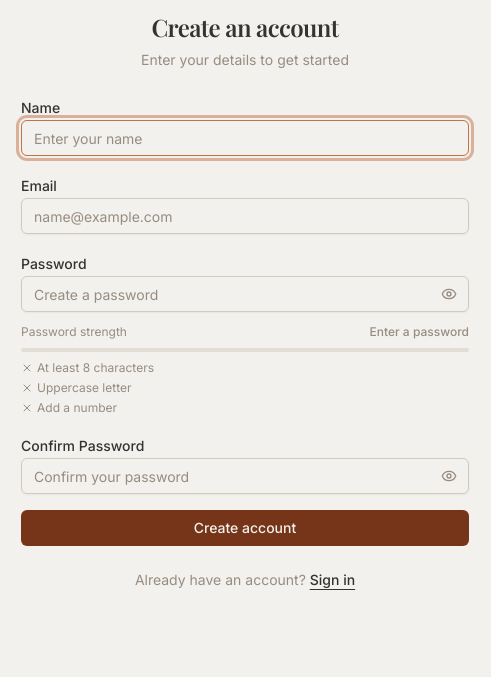
Test: RegisterForm › submission › displays error when email already exists
Type "John Doe" into the field labelled "Name".
click(245, 138); type("John Doe")  # box [21,120,469,156]
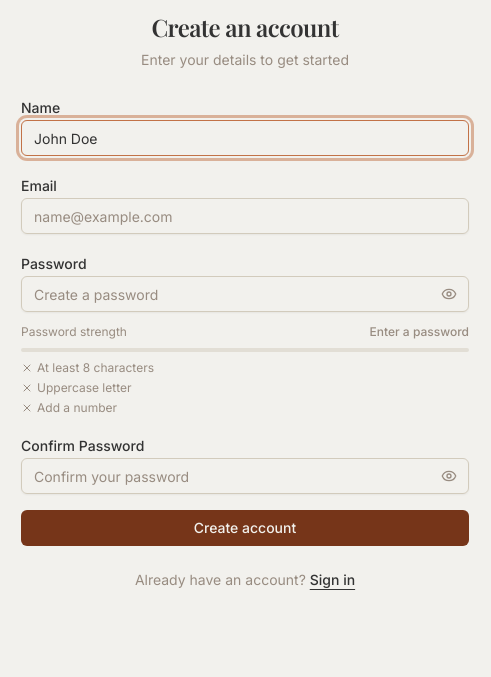
Type "existing@example.com" into the field labelled "Email".
click(245, 216); type("existing@example.com")  # box [21,198,469,234]
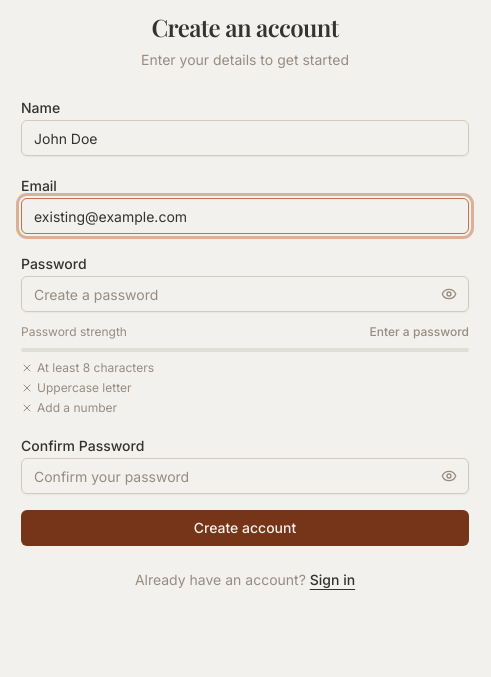
Type "StrongPass123!" into the password field labelled "Password".
click(245, 294); type("StrongPass123!")  # box [21,276,469,312]
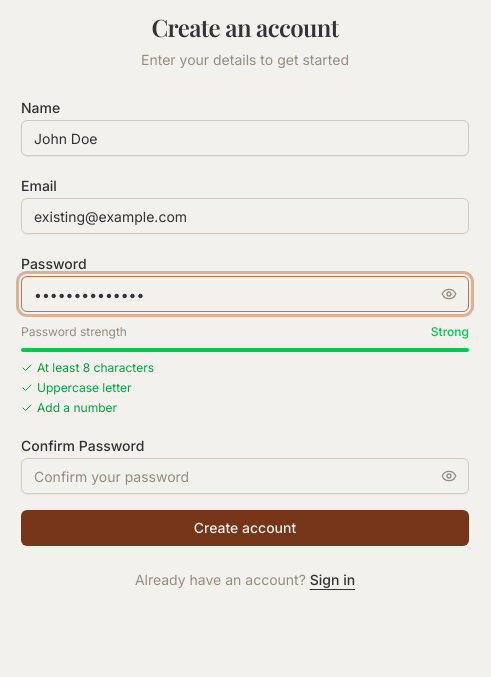
Type "StrongPass123!" into the password field labelled "Confirm Password".
click(245, 476); type("StrongPass123!")  # box [21,458,469,494]
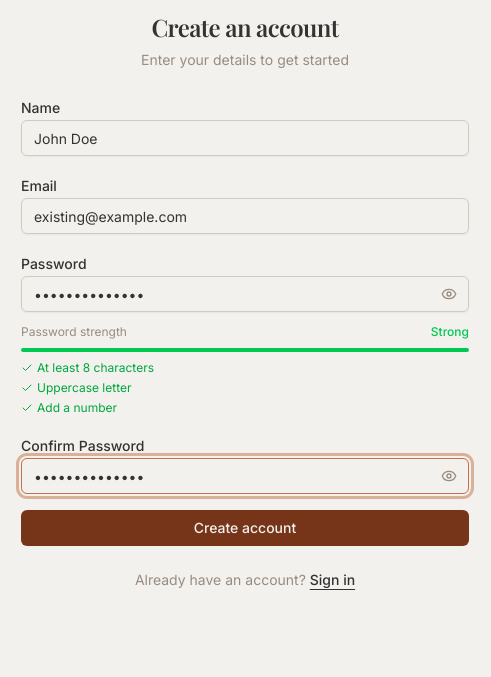
Click the button "Create account".
click(245, 528)  # box [21,510,469,546]
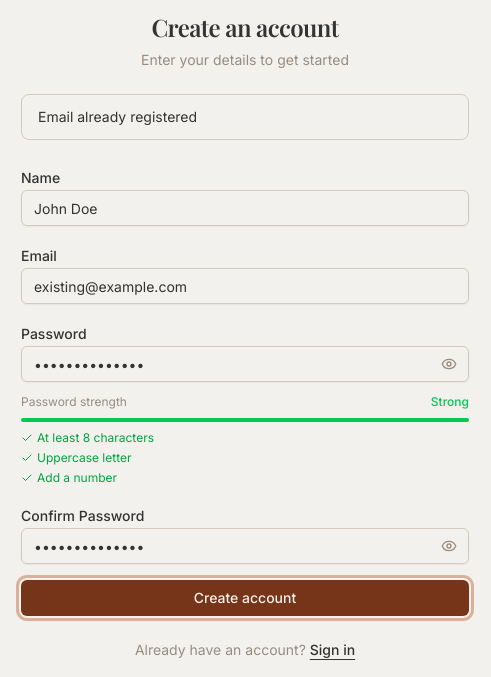
Now the text "Email already registered" is shown, box [38,108,197,125]
